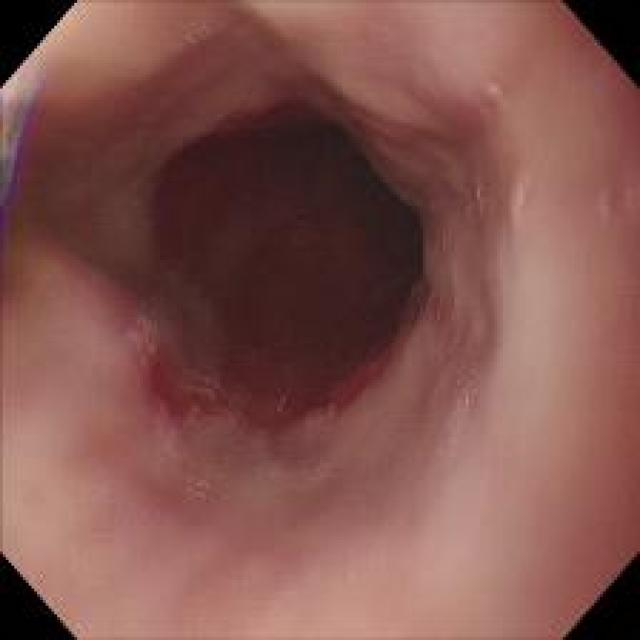bubbles: (180, 18, 215, 44), (190, 476, 210, 501)
color misalignment: (119, 300, 256, 432), (0, 40, 51, 236), (446, 342, 481, 402), (175, 475, 215, 506), (272, 386, 291, 420)
contrast: (144, 82, 488, 411)
